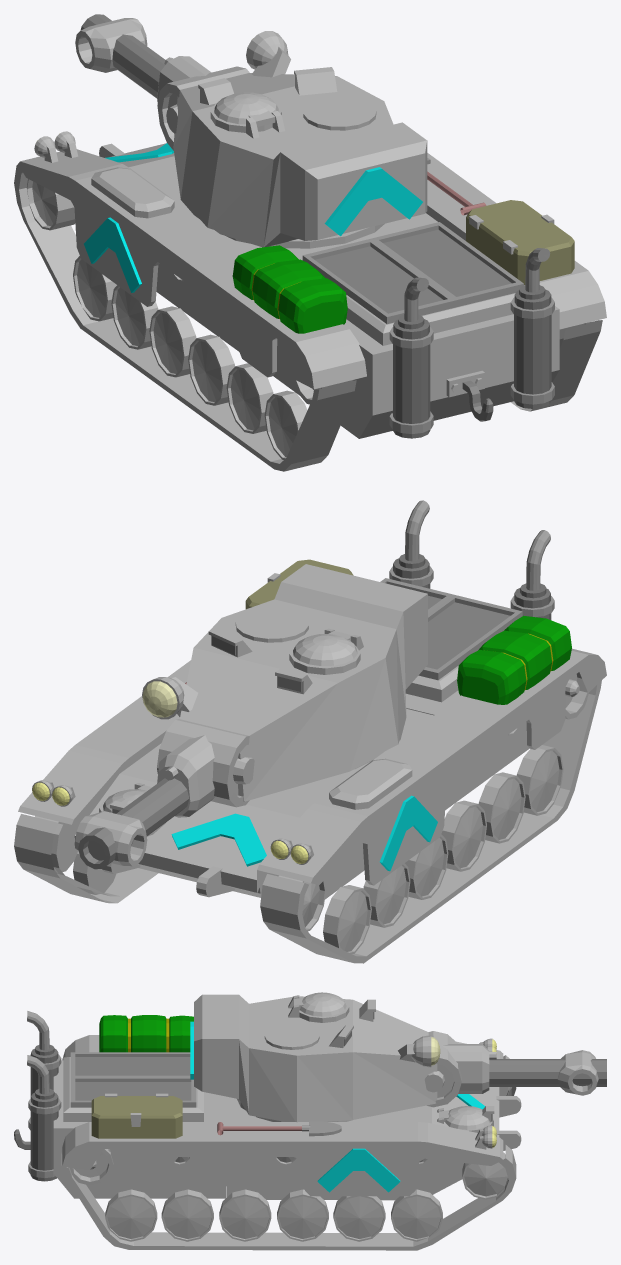
The model's file is tank.dae.
3 views of the same model, one above another, from view 1: azimuth 30°, elevation 25°; view 2: azimuth 150°, elevation 25°; view 3: azimuth 270°, elevation 25° (orthographic). The views are drawn at different scales.
Parts seen in each view (by area): view 1: MODEL, Turret, RDoor, LDoor, GunEnd, GunMove, Wheel3, Wheel4, Wheel5, Wheel6, Wheel2, Wheel1 (+1 smaller); view 2: MODEL, Turret, GunMove, GunEnd, LDoor, Wheel1, Wheel5, Wheel4, Wheel6, Wheel2, Wheel3, Hatch (+1 smaller); view 3: MODEL, Turret, GunEnd, GunMove, LDoor, RDoor, Wheel4, Wheel5, Wheel6, Wheel3, Wheel1, Wheel2 (+1 smaller).
Part boxes in pixels (bbox=[...]): MODEL: bbox=[14, 131, 606, 471]; Turret: bbox=[173, 31, 427, 247]; RDoor: bbox=[371, 222, 523, 307]; LDoor: bbox=[302, 238, 455, 324]; GunEnd: bbox=[75, 14, 165, 98]; GunMove: bbox=[157, 56, 249, 150]; Wheel3: bbox=[149, 306, 196, 377]; Wheel4: bbox=[188, 334, 234, 405]; Wheel5: bbox=[226, 363, 273, 433]; Wheel6: bbox=[264, 390, 307, 459]; Wheel2: bbox=[111, 285, 158, 349]; Wheel1: bbox=[73, 256, 116, 321]; MODEL: bbox=[14, 500, 606, 963]; Turret: bbox=[142, 564, 427, 801]; GunMove: bbox=[157, 719, 254, 817]; GunEnd: bbox=[75, 778, 189, 869]; LDoor: bbox=[418, 594, 522, 680]; Wheel1: bbox=[73, 851, 371, 953]; Wheel5: bbox=[478, 772, 525, 843]; Wheel4: bbox=[441, 800, 486, 871]; Wheel6: bbox=[516, 745, 563, 815]; Wheel2: bbox=[363, 863, 410, 927]; Wheel3: bbox=[405, 834, 448, 899]; Hatch: bbox=[293, 631, 357, 665]; MODEL: bbox=[14, 1011, 521, 1250]; Turret: bbox=[190, 994, 440, 1122]; GunEnd: bbox=[489, 1050, 606, 1095]; GunMove: bbox=[424, 1031, 496, 1107]; LDoor: bbox=[70, 1052, 190, 1077]; RDoor: bbox=[70, 1077, 196, 1107]; Wheel4: bbox=[219, 1189, 271, 1241]; Wheel5: bbox=[161, 1189, 213, 1241]; Wheel6: bbox=[105, 1189, 157, 1241]; Wheel3: bbox=[277, 1189, 328, 1241]; Wheel1: bbox=[391, 1189, 442, 1241]; Wheel2: bbox=[333, 1196, 385, 1241].
Size of the model in its own units: 0.9235 by 2.13 by 0.7438.
